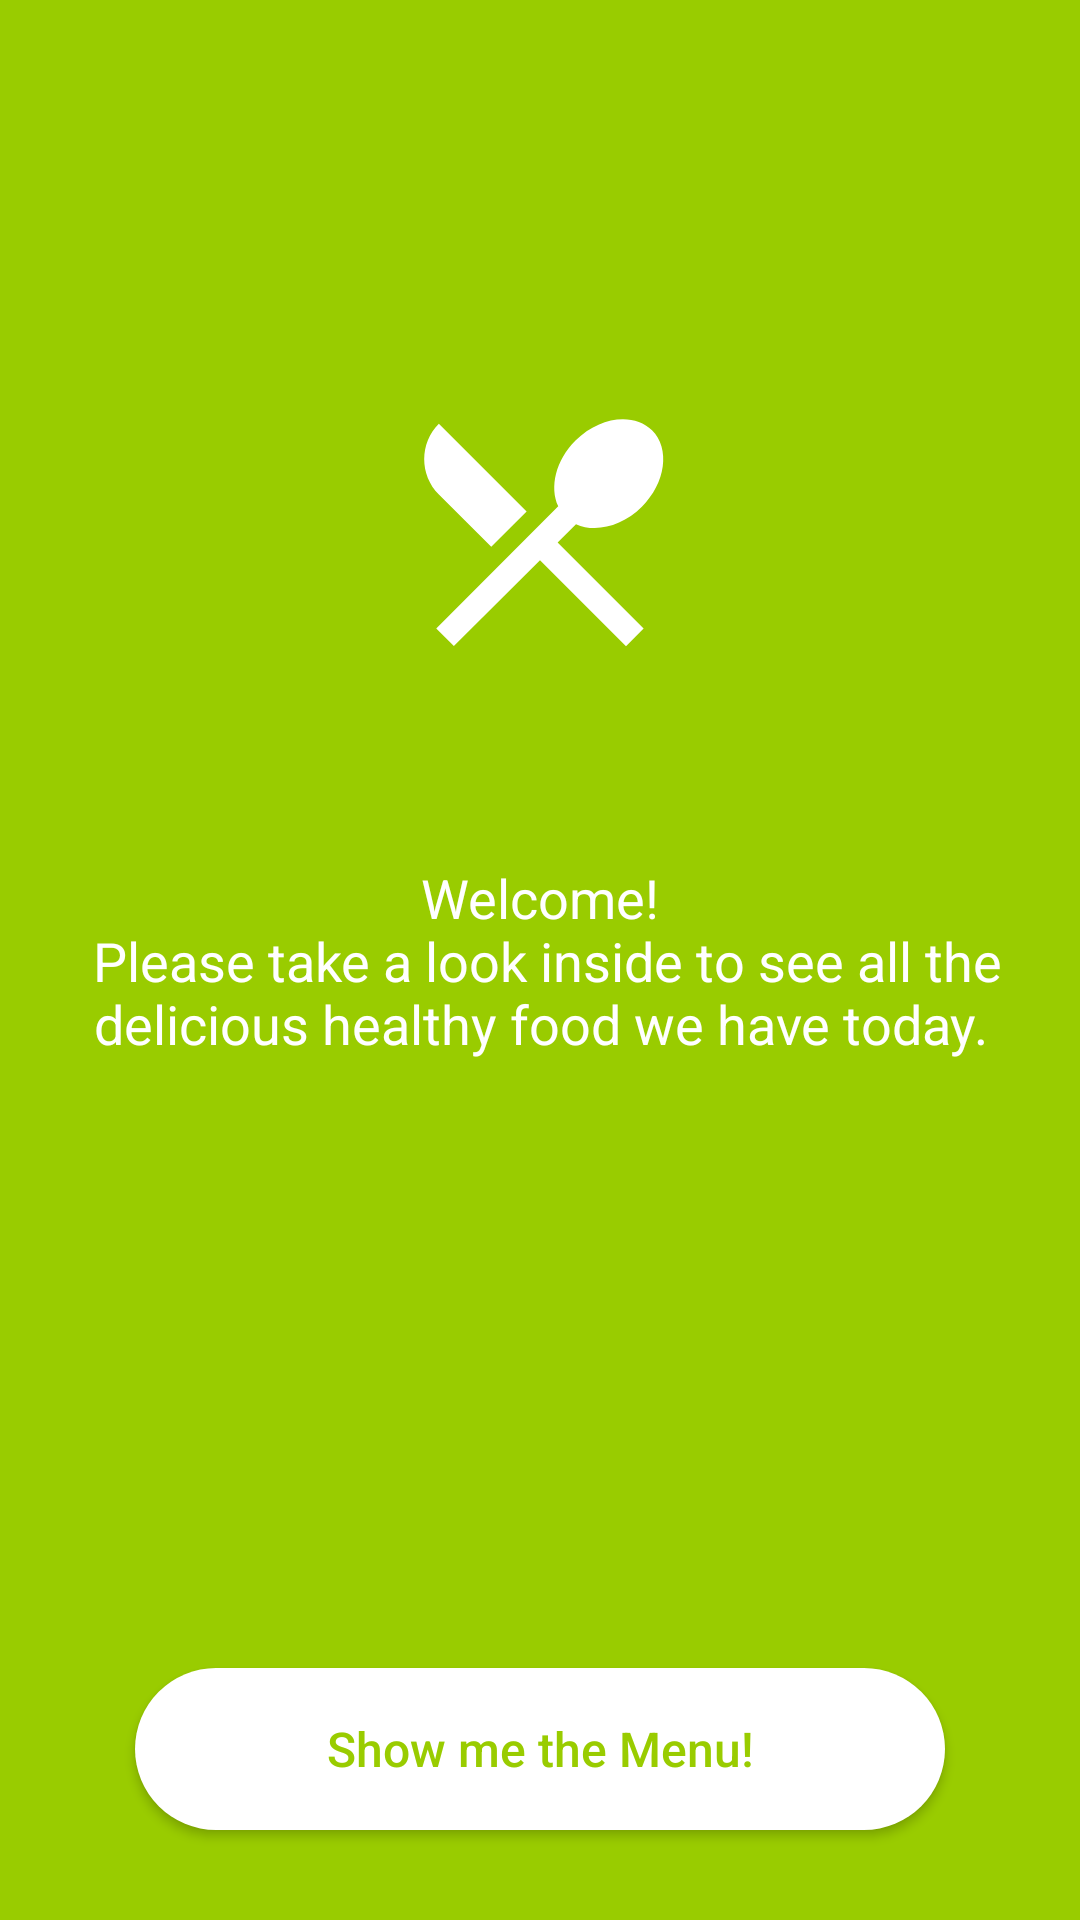

Point at icon controls on the screen. Image size 1080 x 1920, points as (x,y).
Menu ImageView Content Description: (544,532)
